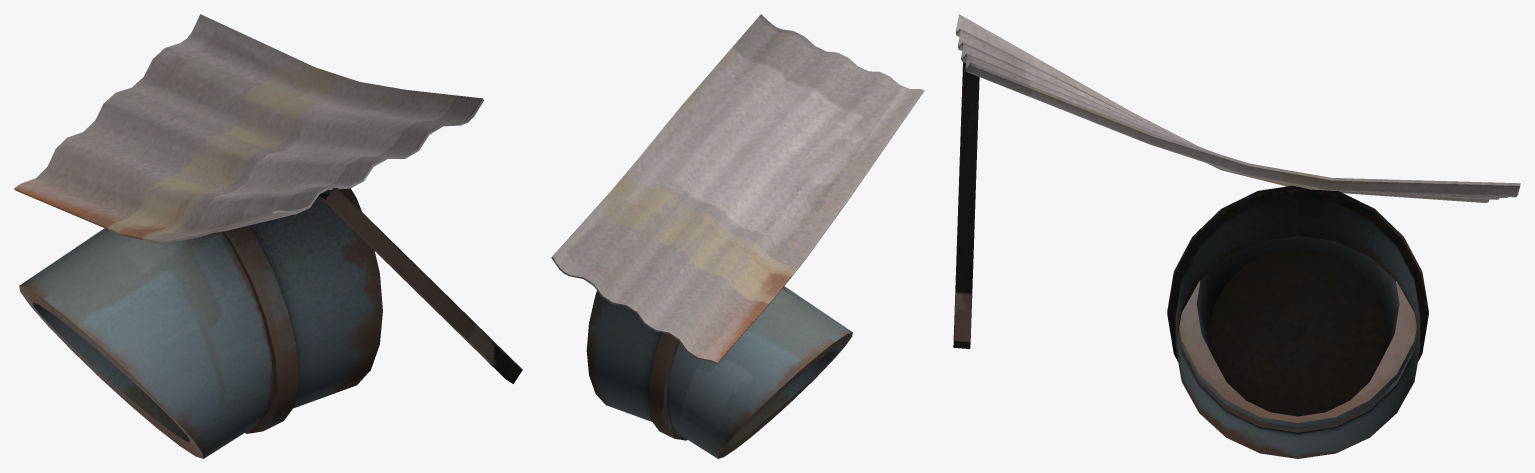
The model's file is grain_elevator04.glb.
3 renders of one model, left to right at view 1: azimuth 30°, elevation 25°; view 2: azimuth 150°, elevation 25°; view 3: azimuth 270°, elevation 25°, orthographic. The views are drawn at different scales.
Parts seen in each view (by area): view 1: grain_elevator04; view 2: grain_elevator04; view 3: grain_elevator04.
Boxes of the visible parts, left/top/right/bottom form: grain_elevator04: left=14, top=14, right=522, bottom=458; grain_elevator04: left=551, top=14, right=924, bottom=458; grain_elevator04: left=953, top=14, right=1520, bottom=458.
Size of the model in its own units: 0.7629 by 1.06 by 1.28.
Materials: 1 (1 with a texture image).
